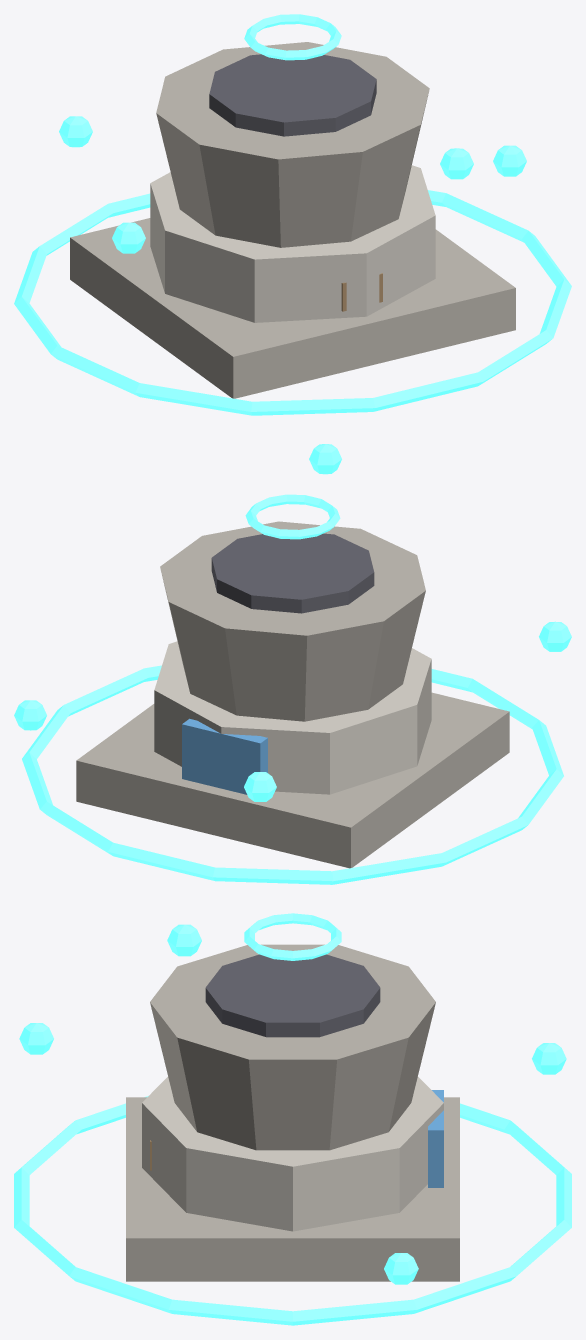
Rendered from evolved_mortar.glb.
3 renders of one model, top to bottom at view 1: azimuth 30°, elevation 25°; view 2: azimuth 150°, elevation 25°; view 3: azimuth 270°, elevation 25°, orthographic. The views are drawn at different scales.
Parts seen in each view (by area): view 1: evolved_mortar; view 2: evolved_mortar; view 3: evolved_mortar.
Part boxes in pixels (x1,y1,x2,y2): evolved_mortar: (14, 14, 571, 415); evolved_mortar: (14, 444, 571, 884); evolved_mortar: (14, 913, 571, 1325).
Size of the model in its own units: 3.96 by 2.13 by 3.86.
